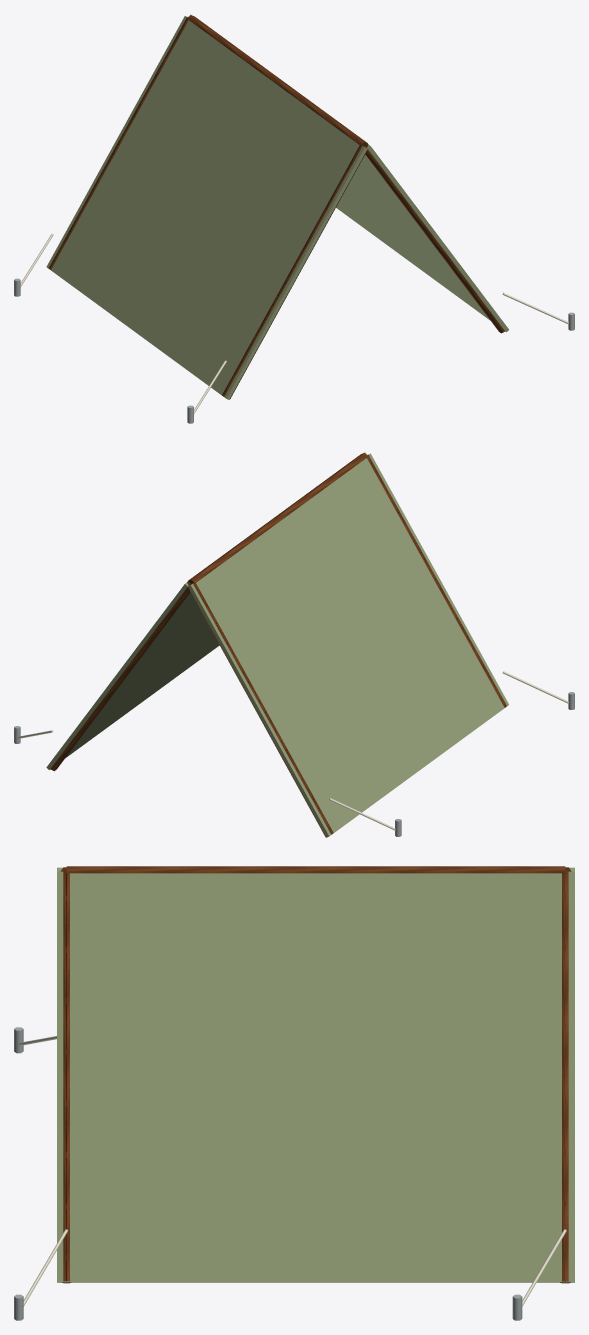
File: wilderness-survival-camp-ridge-tarp-4a854061__21937.glb
The picture shows the model from 3 angles, top to bottom: view 1: azimuth 30°, elevation 25°; view 2: azimuth 150°, elevation 25°; view 3: azimuth 270°, elevation 25°; orthographic projection. The views are drawn at different scales.
Parts seen in each view (by area): view 1: ridge-tarp; view 2: ridge-tarp; view 3: ridge-tarp.
Part boxes in pixels (left/top/right/bottom): ridge-tarp: left=14, top=14, right=574, bottom=423; ridge-tarp: left=14, top=452, right=574, bottom=837; ridge-tarp: left=14, top=866, right=574, bottom=1320.
Size of the model in its own units: 3.34 by 1.85 by 2.92.
Materials: 4 (1 with a texture image).
